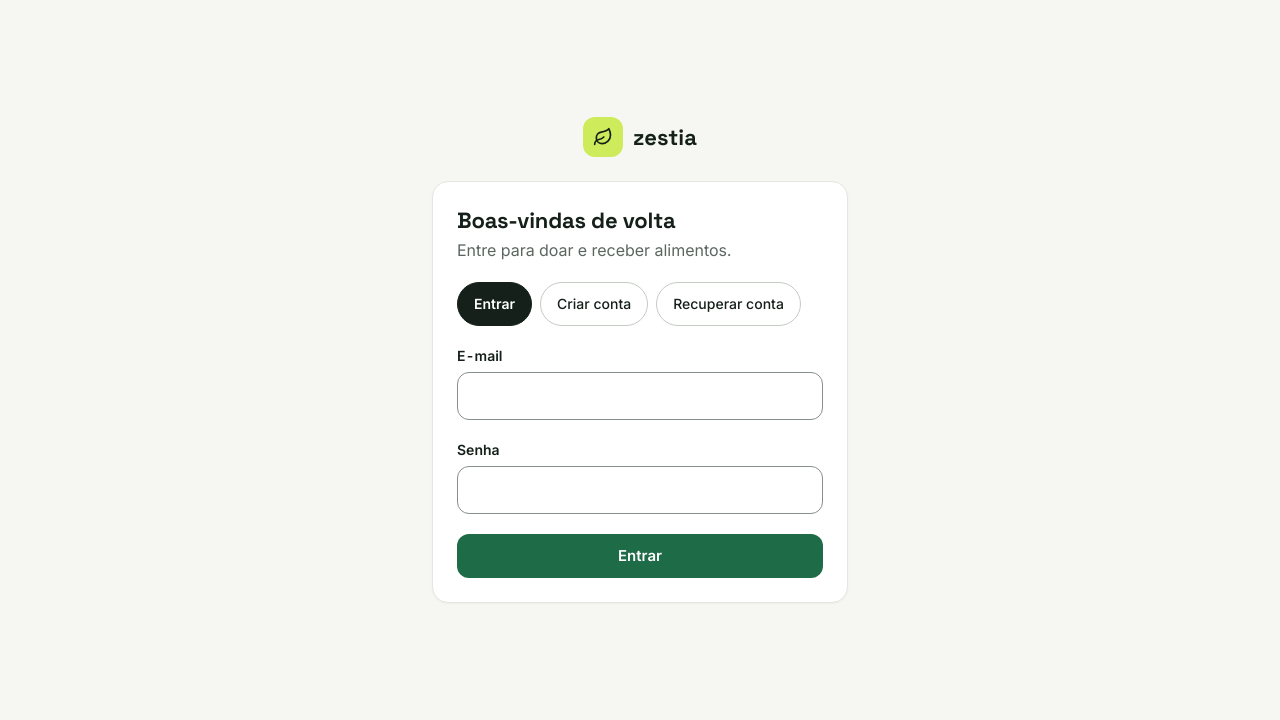
Test: falha no logout preserva a sessão até revogação confirmada
The image size is (1280, 720).
expect the heading "Boas-vindas de volta" is shown: met, box [457,206,676,234]
Type "member@example.test" into the field labelled "E-mail" at [640, 396], box [457,372,823,420]
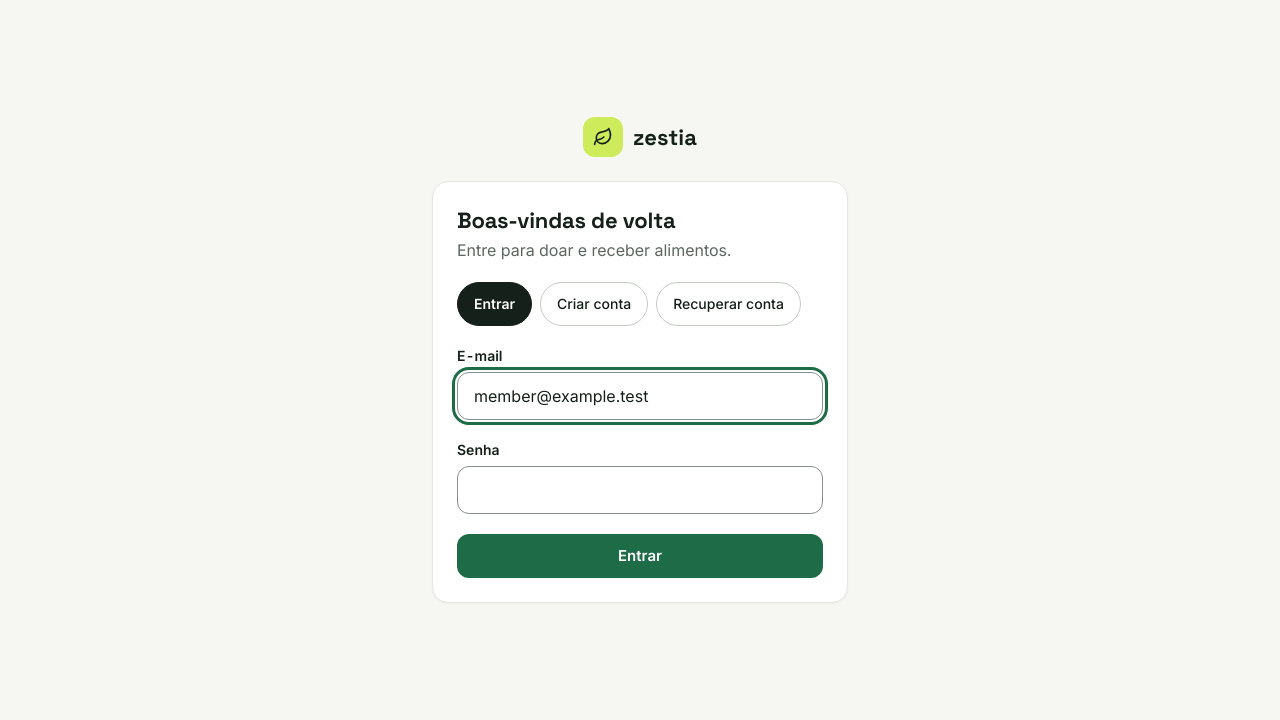
Type "test-password-at-least-12" into the password field labelled "Senha" at [640, 490], box [457,466,823,514]
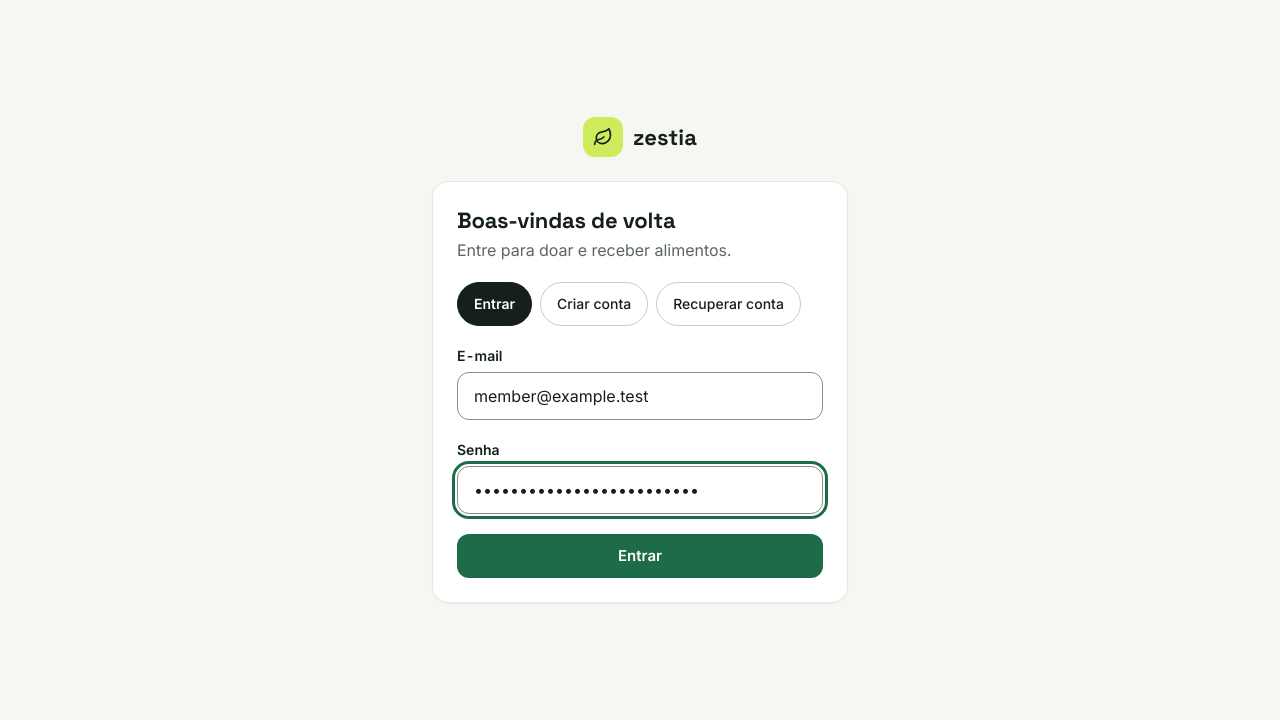
Click the submit button at [640, 556], box [457,534,823,578]
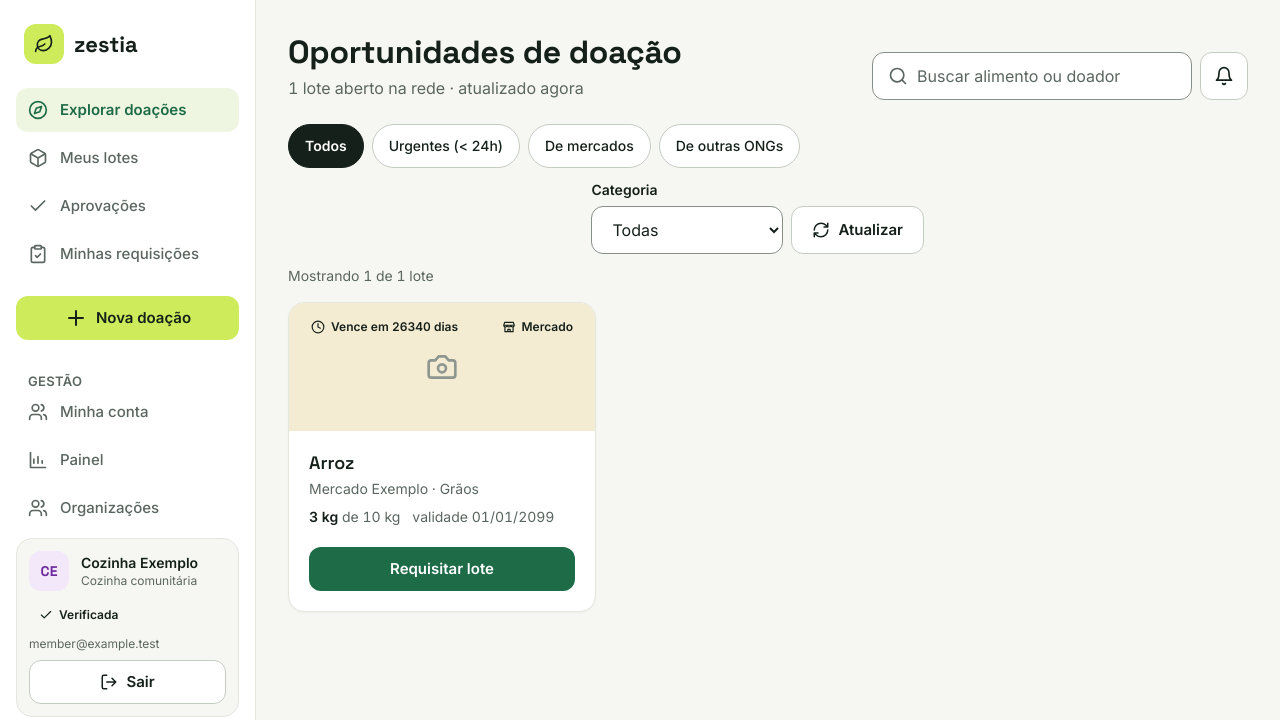
Click the button "Sair" at [128, 682], box [29,660,226,704]
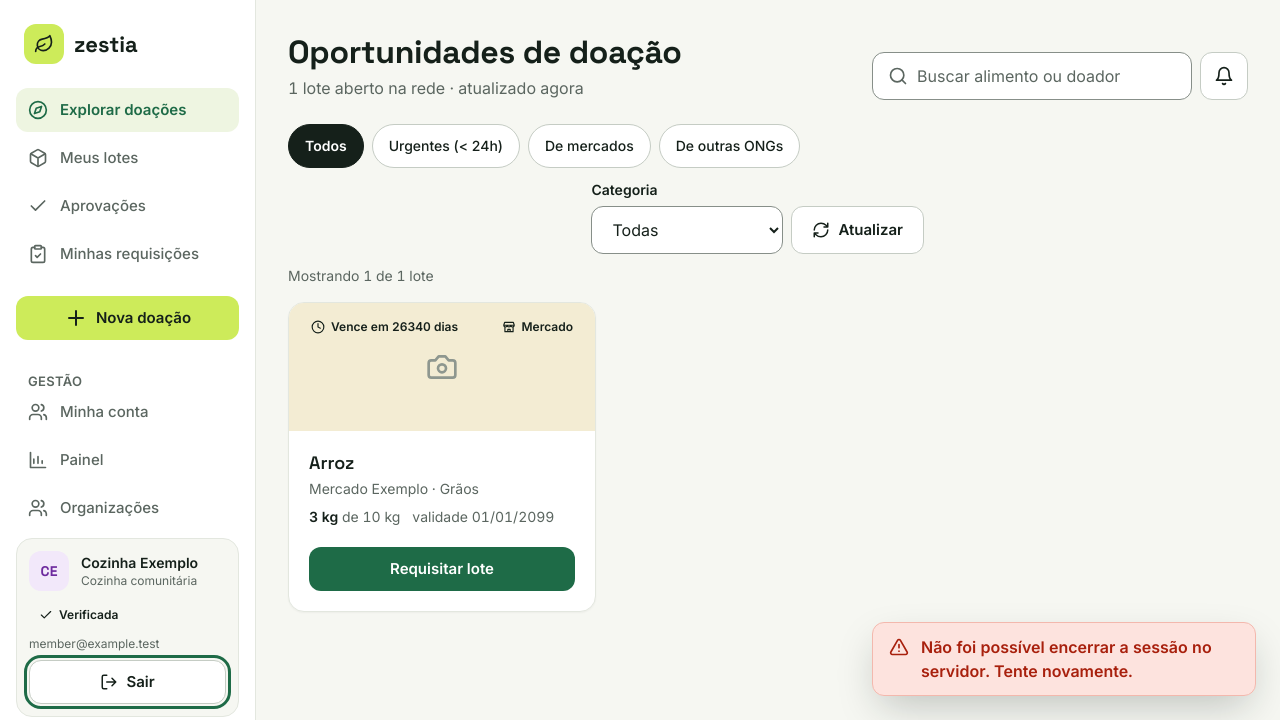
expect the text "Não foi possível encerrar a sessão" is shown: met, box [921,637,1212,681]
Click the button "Sair" at [128, 682], box [29,660,226,704]
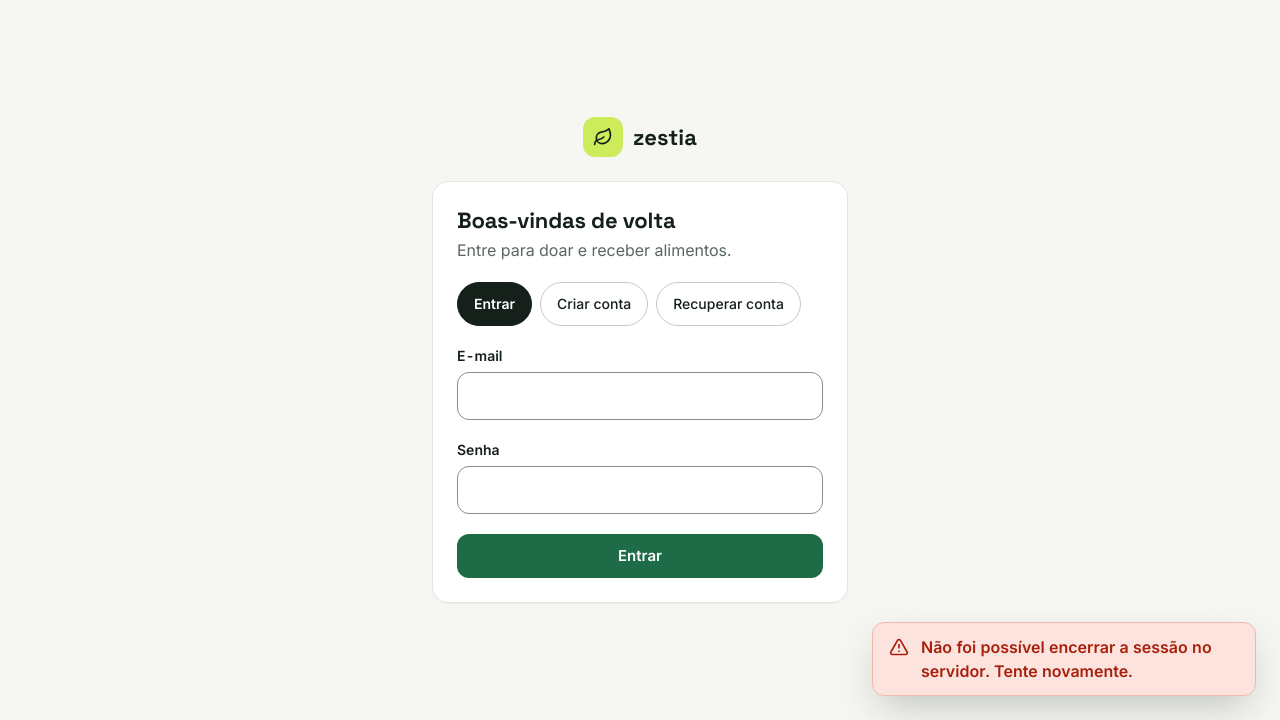
expect the heading "Boas-vindas de volta" is shown: met, box [457,206,676,234]
